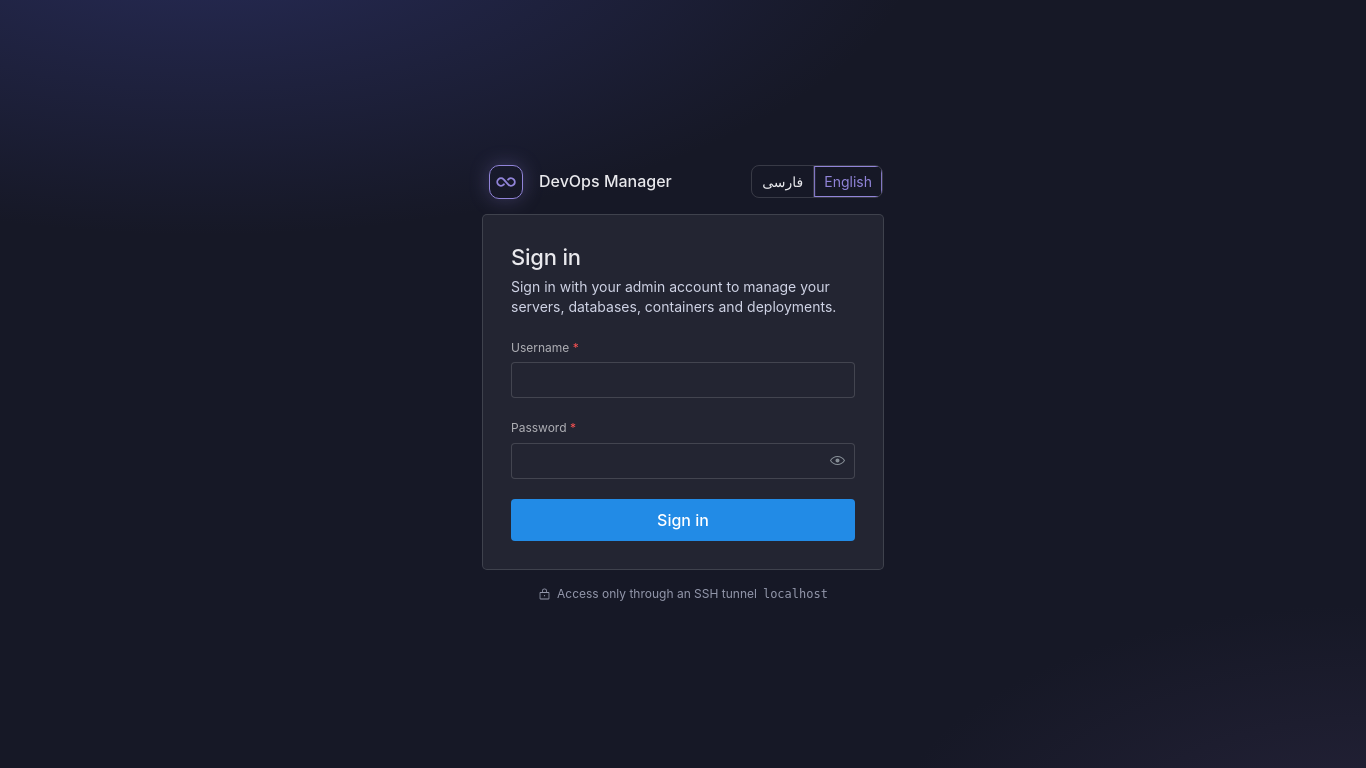
it: LoginPage › shows the generic translated error on invalid credentials
This screenshot has width=1366, height=768.
Type "admin" into the field labelled "Username *" at (683, 380), box [511,362,855,398]
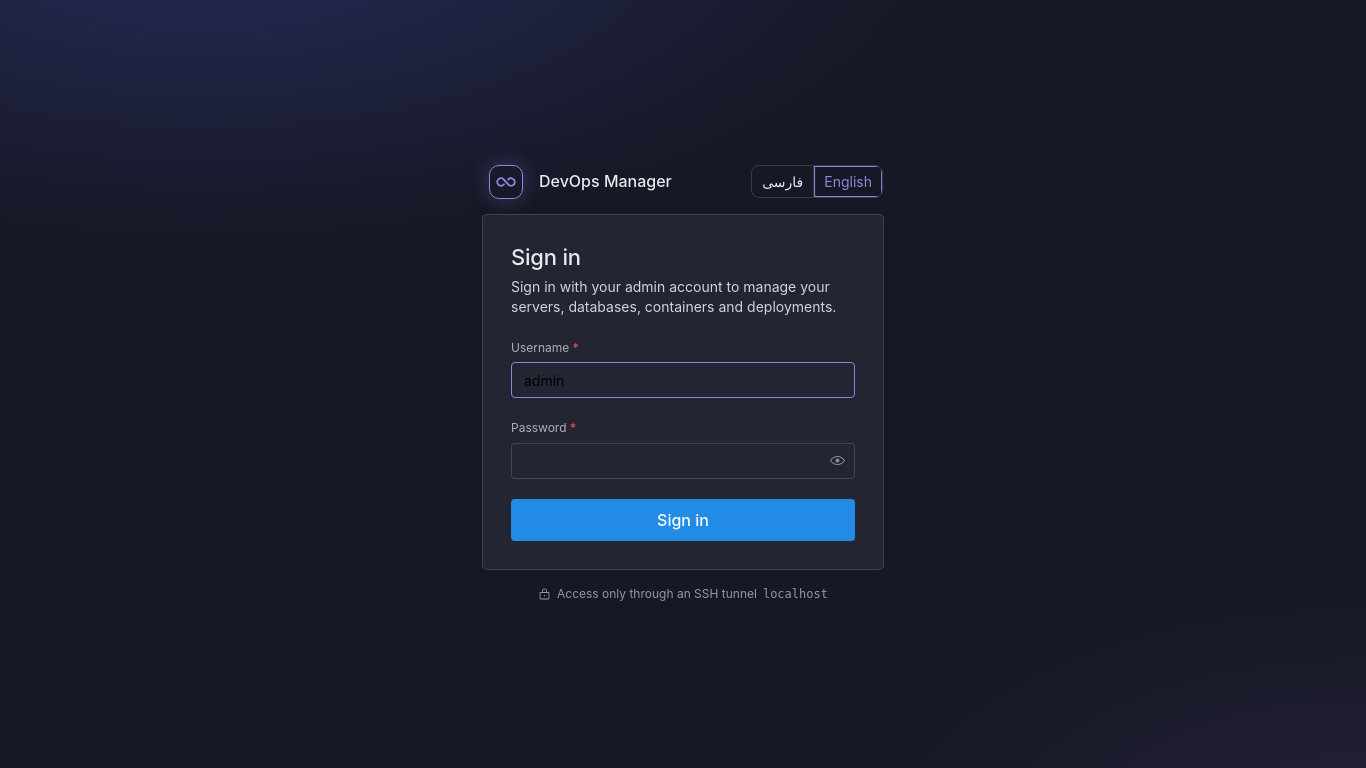
Type "wrong" into the password field labelled "Password *" at (683, 461), box [512,444,854,478]
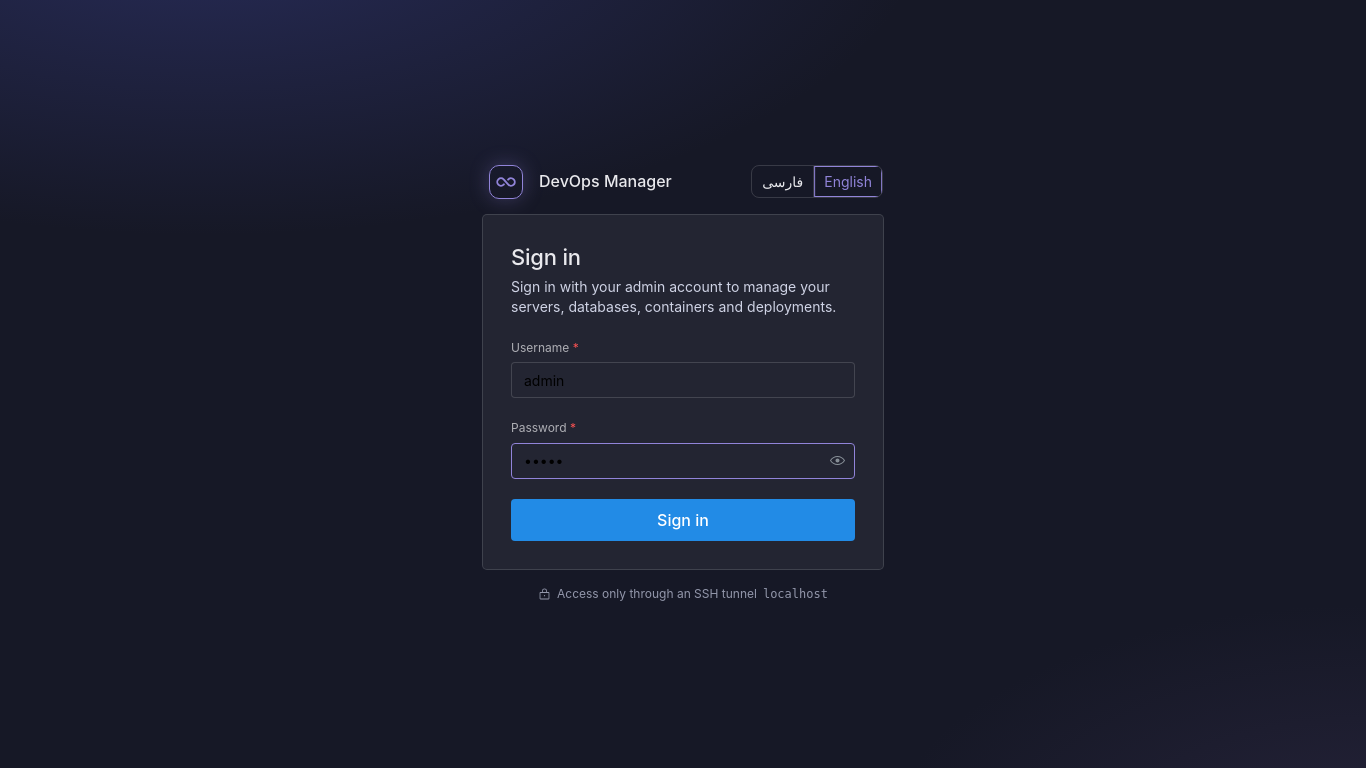
Click the button "Sign in" at (683, 520), box [511,499,855,541]
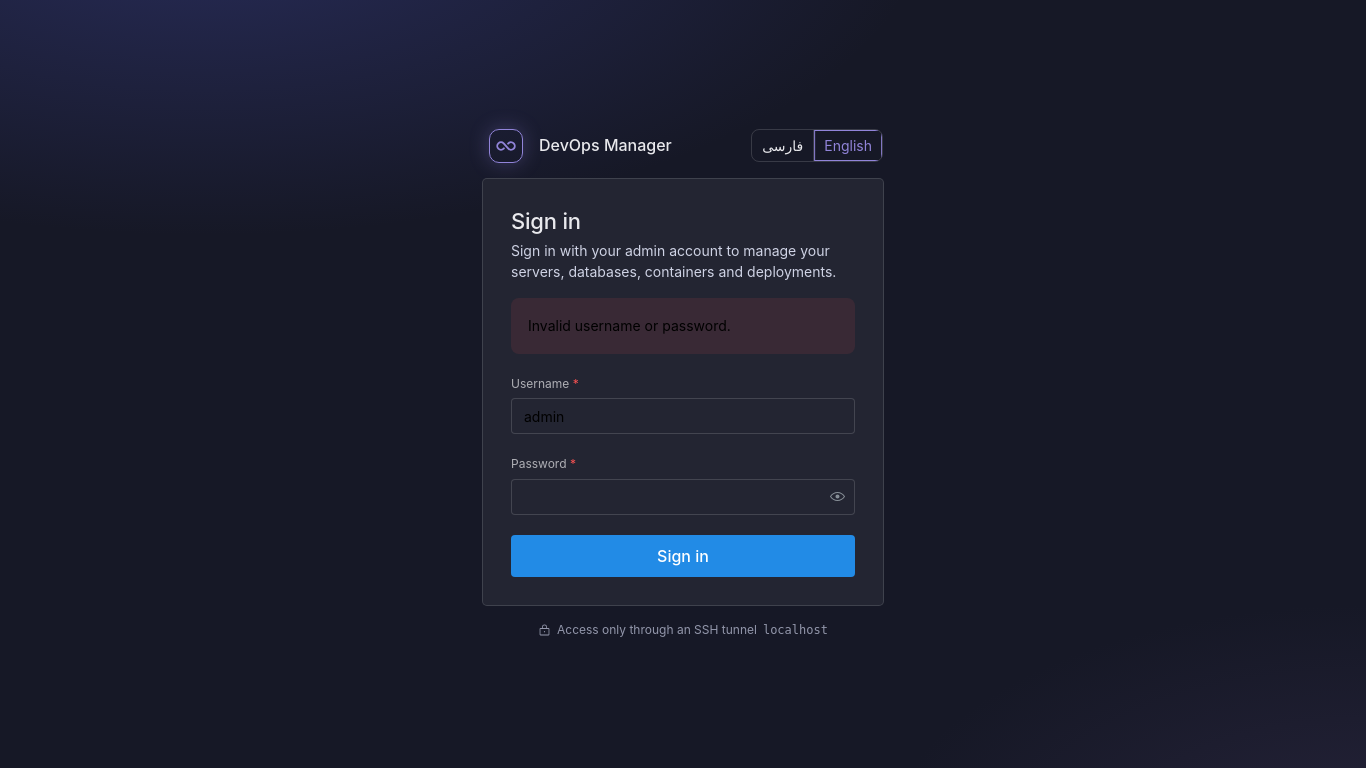
Now the message reads "Invalid username or password.", box [528,317,731,334]
